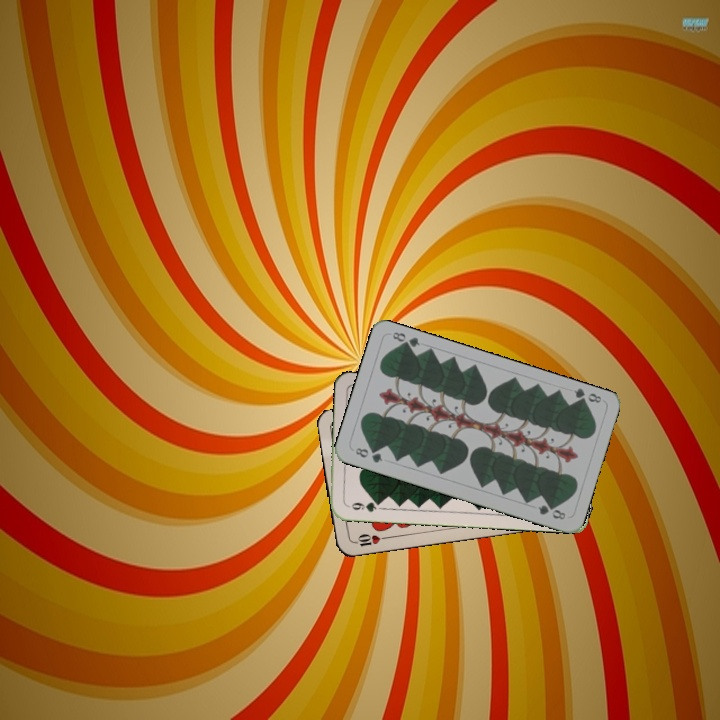G8: (570, 384, 604, 408), (351, 444, 385, 466)
G9: (343, 498, 384, 515)
H10: (349, 530, 389, 550)
